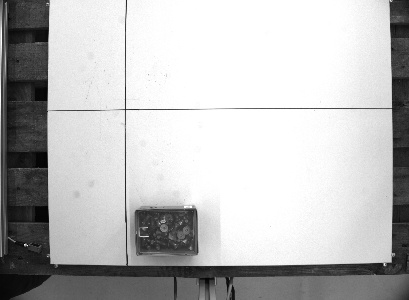klts: (132, 202, 203, 258)
